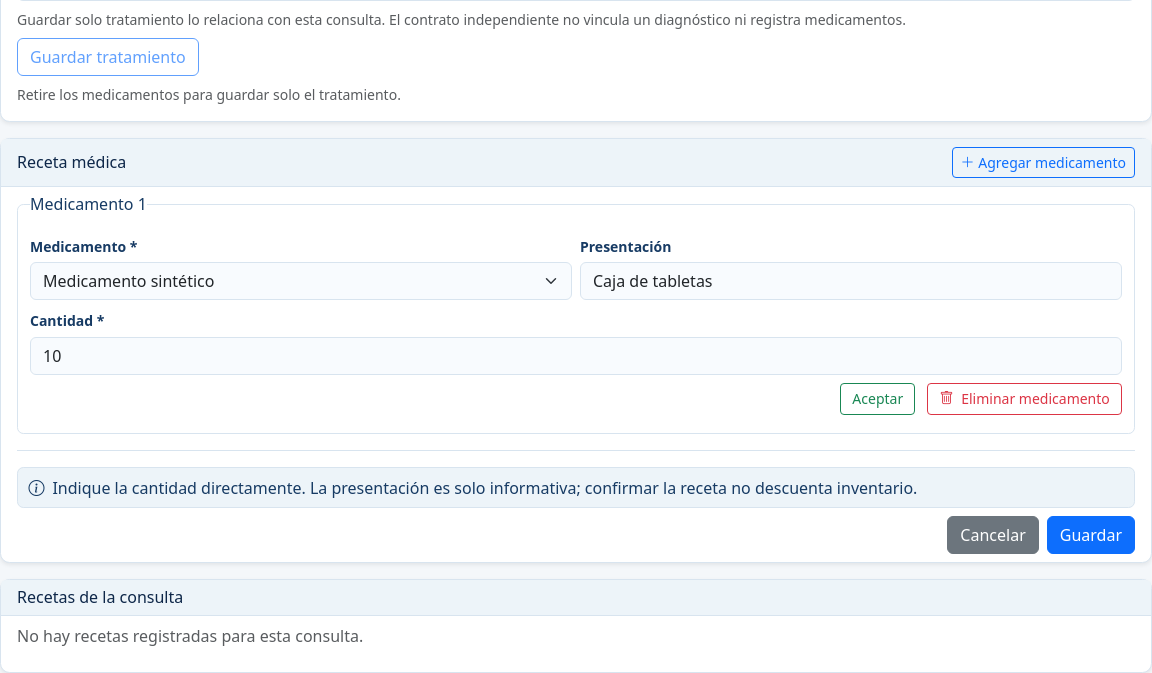
RecetaFormComponent › acepta localmente una línea válida y ofrece Editar sin enviar solicitudes
(page scrolled)
Click the button with aria-label "Aceptar medicamento 1" at (878, 399), box [840,383,915,415]
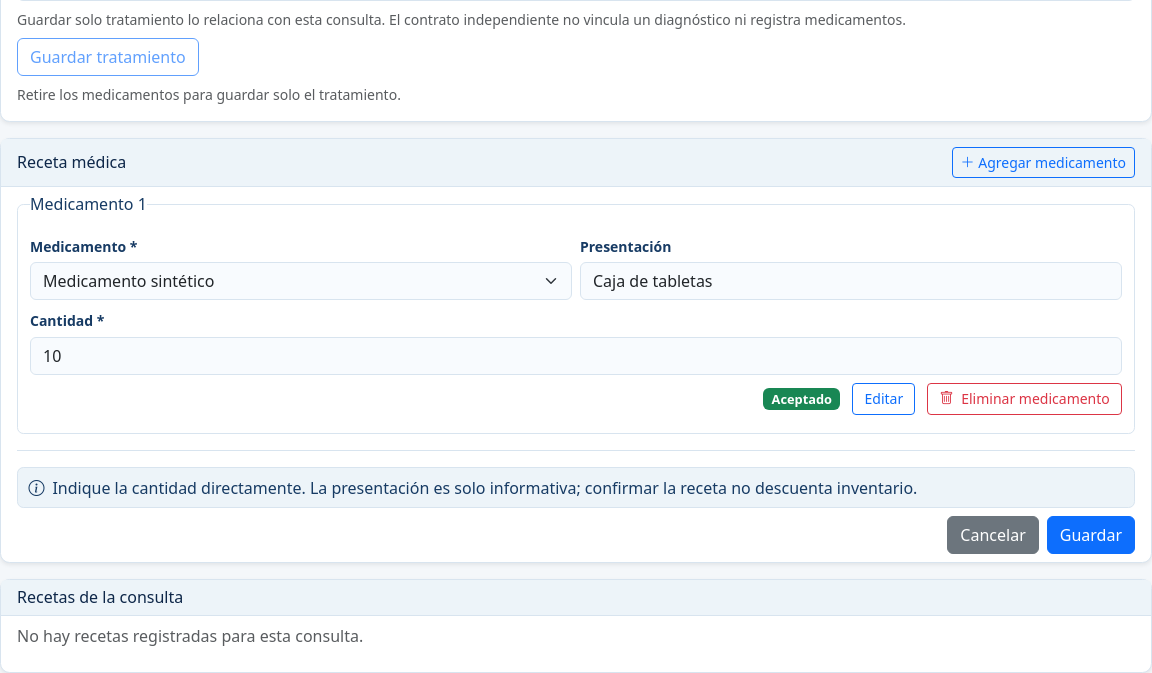
Expected: the button with aria-label "Editar medicamento 1" is shown, [852,383,915,415]
Now the text "Aceptado" is shown, box [763,388,840,410]
